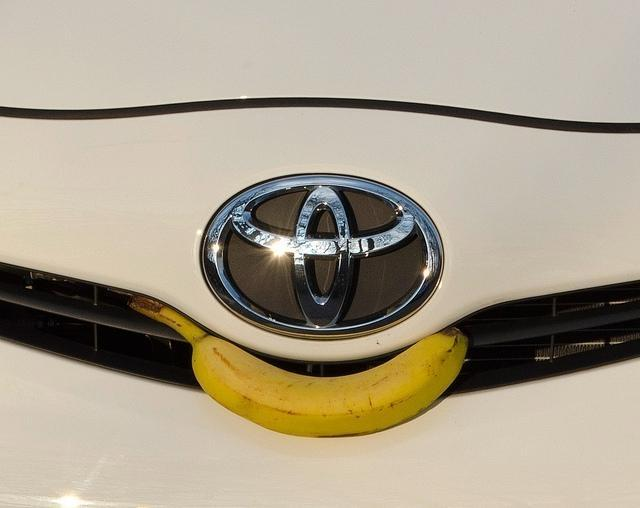car: (0, 3, 640, 498)
